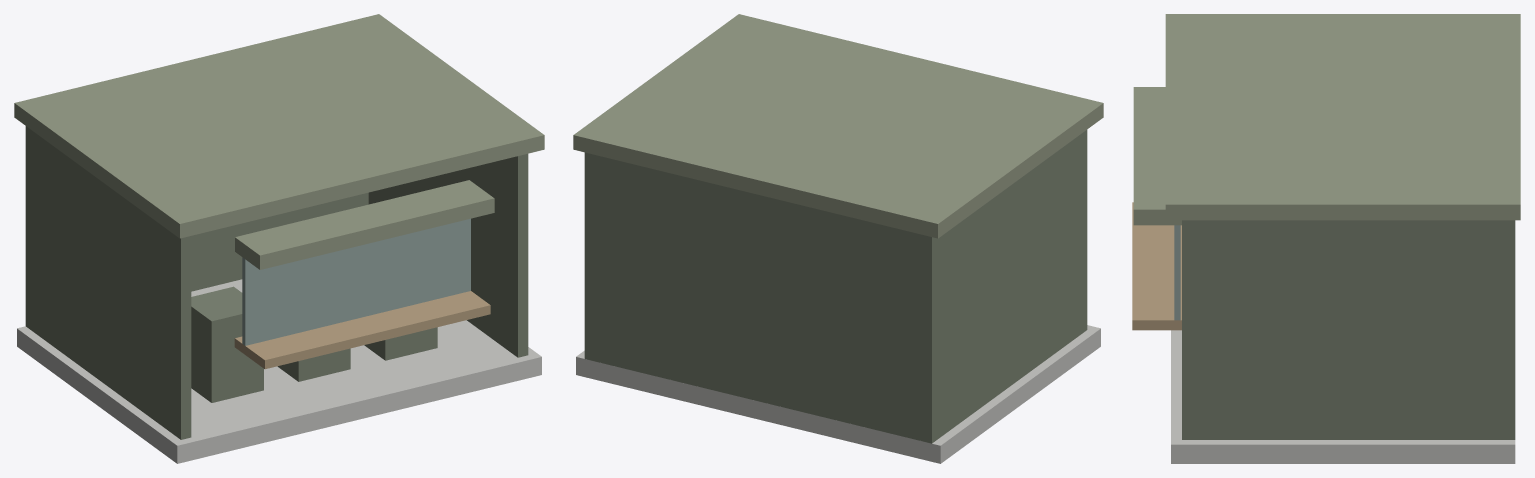
Rendered from field-office.glb.
3 renders of one model, left to right at view 1: azimuth 30°, elevation 25°; view 2: azimuth 150°, elevation 25°; view 3: azimuth 270°, elevation 25°, orthographic. The views are drawn at different scales.
Visible parts, largest first — view 1: field-office; view 2: field-office; view 3: field-office.
Part boxes in pixels (box(x1,y1,x2,y2)): field-office: box(14, 14, 544, 463); field-office: box(573, 14, 1103, 463); field-office: box(1132, 14, 1520, 463).
Bounding box in the file's own units: 4.2 × 2.66 × 3.61.
